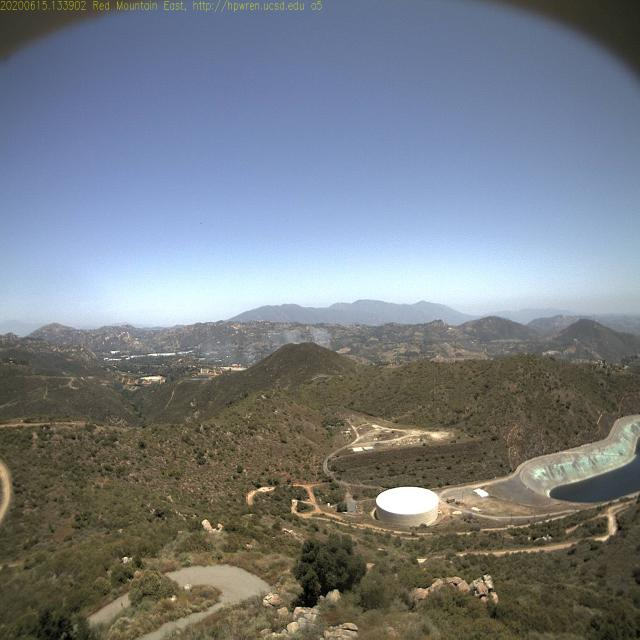smoke: (188, 331, 280, 364), (282, 320, 332, 354)
